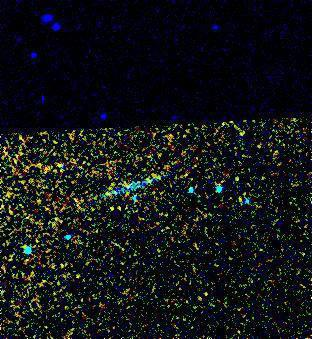star: (222, 162, 252, 192)
